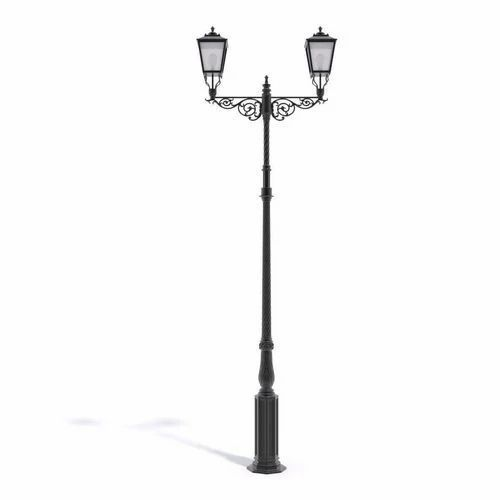Lamp: (190, 24, 336, 474)
